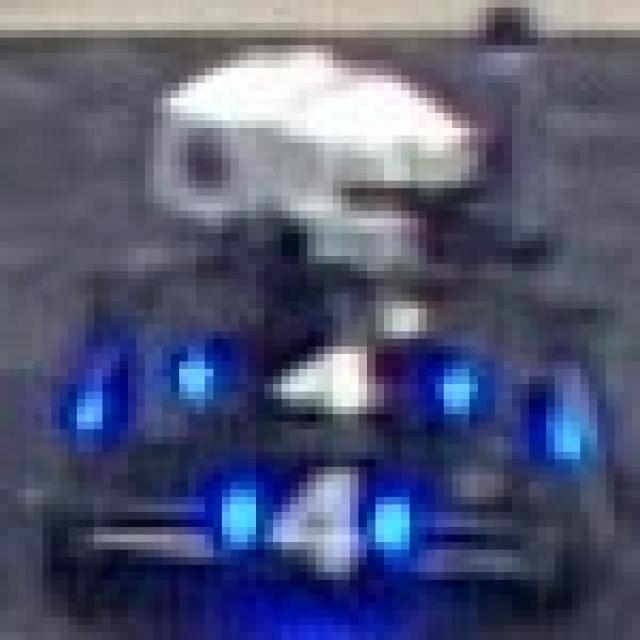B4: (162, 324, 478, 422), (222, 452, 409, 572)
